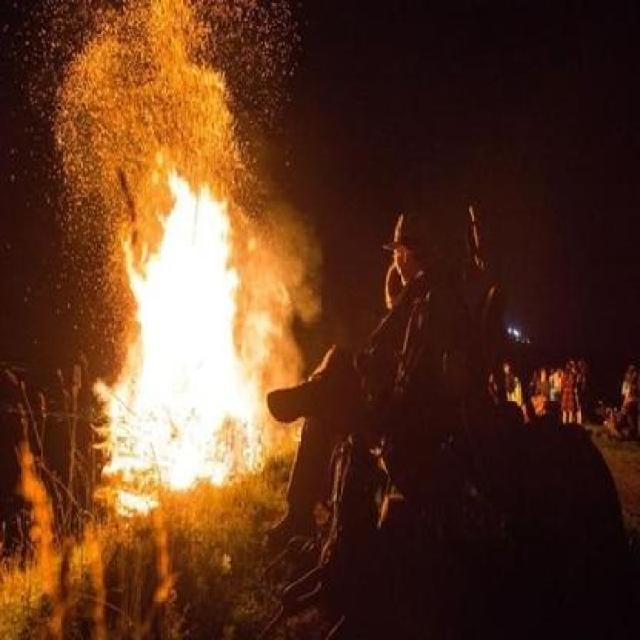Fire: (95, 176, 268, 516)
Smoke: (68, 14, 273, 178)
